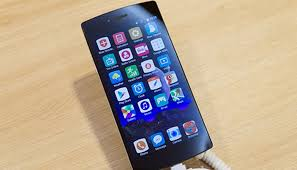bphone: (78, 1, 216, 168)
